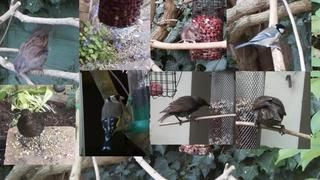blackbird: (16, 109, 52, 153)
dunnock: (13, 24, 55, 78)
goldfinch: (101, 94, 126, 151)
great tit: (234, 24, 287, 51)
mouse: (166, 24, 203, 51)
starling: (157, 95, 212, 126), (253, 95, 287, 136)
